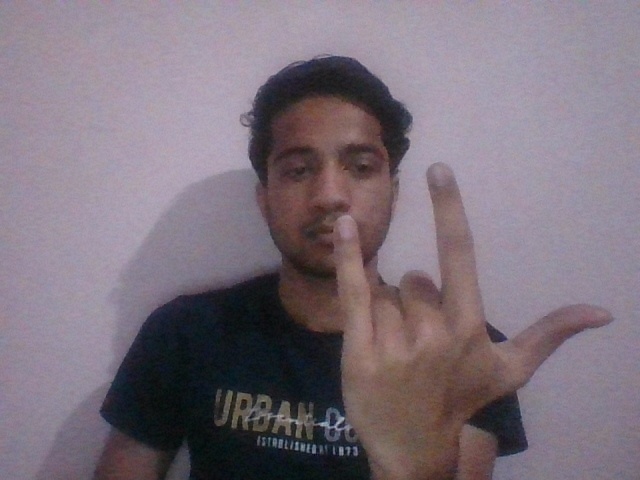iloveyou: (332, 169, 613, 468)
